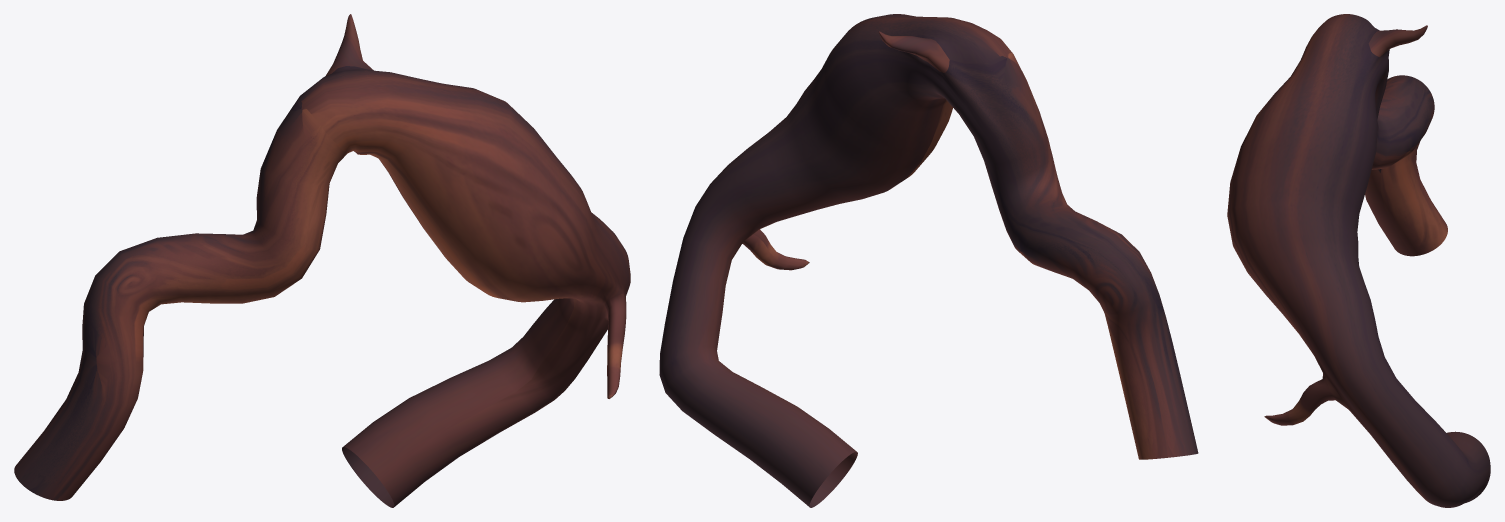
The model's file is SM_GrossRacinefinale.fbx.
The picture shows the model from 3 angles, left to right: view 1: azimuth 30°, elevation 25°; view 2: azimuth 150°, elevation 25°; view 3: azimuth 270°, elevation 25°; orthographic projection. The views are drawn at different scales.
Parts seen in each view (by area): view 1: Cylinder.001; view 2: Cylinder.001; view 3: Cylinder.001.
Boxes of the visible parts, x1,y1,x2,y2 form: Cylinder.001: (14,14,630,507); Cylinder.001: (659,14,1198,507); Cylinder.001: (1227,14,1490,507).
Bounding box in the file's own units: 1670 × 1421 × 743.
